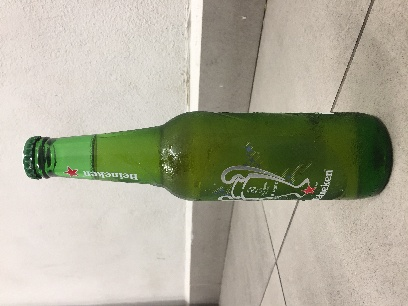HB: (14, 79, 286, 150)
